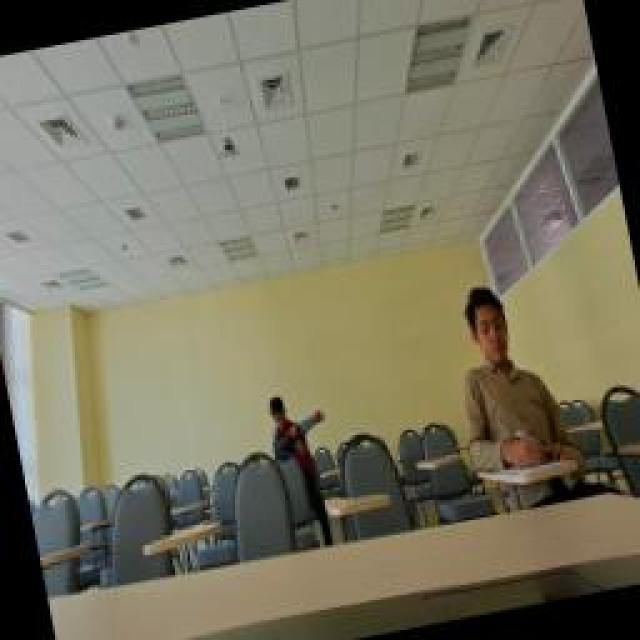study: (438, 275, 580, 483)
